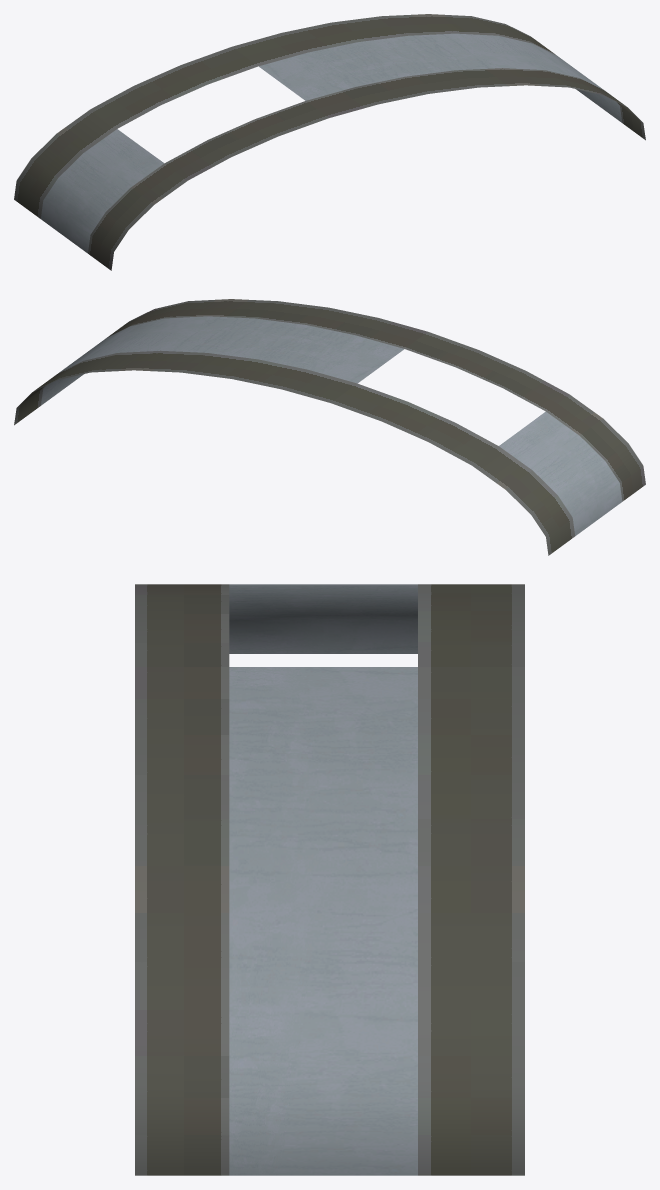
Rendered from nt_2020_house_02_glass_interior_LOD0.obj.
3 renders of one model, top to bottom at view 1: azimuth 30°, elevation 25°; view 2: azimuth 150°, elevation 25°; view 3: azimuth 270°, elevation 25°, orthographic. The views are drawn at different scales.
Visible parts, largest first — view 1: nt_2020_glass_trim_glow_simple, glass_clear_mp_model; view 2: nt_2020_glass_trim_glow_simple, glass_clear_mp_model; view 3: nt_2020_glass_trim_glow_simple, glass_clear_mp_model.
Part boxes in pixels (x1=…): nt_2020_glass_trim_glow_simple: x1=14, y1=14, x2=645, y2=270; glass_clear_mp_model: x1=41, y1=33, x2=622, y2=253; nt_2020_glass_trim_glow_simple: x1=14, y1=299, x2=645, y2=555; glass_clear_mp_model: x1=41, y1=316, x2=622, y2=535; nt_2020_glass_trim_glow_simple: x1=135, y1=584, x2=524, y2=1175; glass_clear_mp_model: x1=229, y1=584, x2=417, y2=1175.
Bounding box in the file's own units: 980 × 178 × 310.
